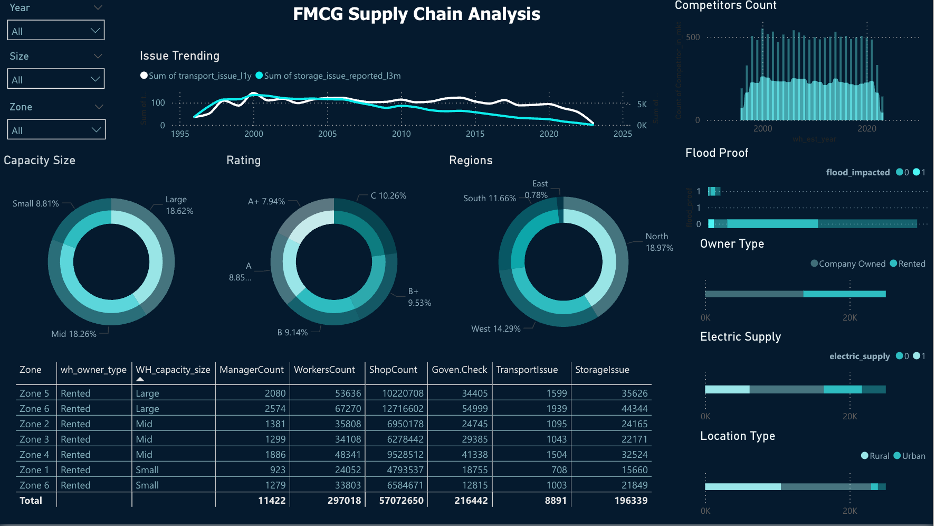

This screenshot's page, from the dashboard's own definition file:
{"tool":"powerbi","page":{"name":"Page 1","canvas":[1280,720],"ordinal":0},"visuals":[{"type":"barChart","title":"Owner Type","fields":{"Y":["Count(FMCG_data.Ware_house_ID)"],"Series":["FMCG_data.wh_owner_type"]},"box":[955.7,327.2,324.3,127.4],"z":0},{"type":"donutChart","title":"Rating ","fields":{"Category":["FMCG_data.approved_wh_govt_certificate"],"Y":["CountNonNull(FMCG_data.storage_issue_reported_l3m)"]},"box":[305.5,212.9,305.5,279.5],"z":1000},{"type":"donutChart","title":"Capacity Size","fields":{"Category":["FMCG_data.WH_capacity_size"],"Y":["CountNonNull(FMCG_data.Competitor_in_mkt)"]},"box":[0,212.9,305.5,279.5],"z":2000},{"type":"textbox","box":[396.9,0,365.2,43.2],"z":3000},{"type":"barChart","title":"Flood Proof","fields":{"Series":["FMCG_data.flood_impacted"],"Category":["FMCG_data.flood_proof"],"Y":["CountNonNull(FMCG_data.Ware_house_ID)"]},"box":[935.4,202.7,344.6,124.5],"z":4000},{"type":"barChart","title":"Electric Supply","fields":{"Y":["CountNonNull(FMCG_data.Ware_house_ID)"],"Series":["FMCG_data.electric_supply"]},"box":[955.7,454.7,324.3,136.1],"z":5000},{"type":"barChart","title":"Location Type","fields":{"Y":["CountNonNull(FMCG_data.Location_type)"],"Series":["FMCG_data.Location_type"]},"box":[955.7,590.8,324.3,128.9],"z":6000},{"type":"ribbonChart","title":"Competitors Count","fields":{"Category":["FMCG_data.wh_est_year"],"Y":["CountNonNull(FMCG_data.Competitor_in_mkt)"]},"box":[920.9,0,359.1,202.7],"z":7000},{"type":"tableEx","fields":{"Values":["FMCG_data.WH_regional_zone","FMCG_data.wh_owner_type","FMCG_data.WH_capacity_size","FMCG_data.WH_Manager_ID","FMCG_data.workers_num","FMCG_data.retail_shop_num","FMCG_data.govt_check_l3m","FMCG_data.transport_issue_l1y","FMCG_data.storage_issue_reported_l3m"]},"box":[15.9,492.3,919.5,227.3],"z":8000},{"type":"slicer","fields":{"Values":["FMCG_data.wh_est_year"]},"box":[0,0,153.5,66.6],"z":9000},{"type":"slicer","fields":{"Values":["FMCG_data.WH_capacity_size"]},"box":[0,66.6,153.5,69.5],"z":10000},{"type":"slicer","fields":{"Values":["FMCG_data.zone"]},"box":[0,136.1,154.9,66.6],"z":11000},{"type":"donutChart","title":"Regions","fields":{"Category":["FMCG_data.zone"],"Y":["CountNonNull(FMCG_data.Ware_house_ID)"]},"box":[611,212.9,324.3,279.5],"z":12000},{"type":"lineChart","title":"Issue Trending","fields":{"Y":["Sum(FMCG_data.transport_issue_l1y)"],"Y2":["Sum(FMCG_data.storage_issue_reported_l3m)"],"Category":["FMCG_data.wh_est_year"]},"box":[186.8,69.5,721.1,133.2],"z":13000}]}

Visuals, with their boxes in screenshot pixels (x1, y1, x2, y2), scaled from the page's 1280x720 canvas onto the 936x526 screenshot:
"Owner Type" barChart: Rect(699, 239, 935, 332)
"Rating " donutChart: Rect(223, 156, 447, 360)
"Capacity Size" donutChart: Rect(0, 156, 223, 360)
textbox: Rect(290, 0, 557, 32)
"Flood Proof" barChart: Rect(684, 148, 935, 239)
"Electric Supply" barChart: Rect(699, 332, 935, 432)
"Location Type" barChart: Rect(699, 432, 935, 525)
"Competitors Count" ribbonChart: Rect(673, 0, 935, 148)
tableEx - FMCG_data.WH_regional_zone x FMCG_data.wh_owner_type: Rect(12, 360, 684, 525)
slicer - FMCG_data.wh_est_year: Rect(0, 0, 112, 49)
slicer - FMCG_data.WH_capacity_size: Rect(0, 49, 112, 99)
slicer - FMCG_data.zone: Rect(0, 99, 113, 148)
"Regions" donutChart: Rect(447, 156, 684, 360)
"Issue Trending" lineChart: Rect(137, 51, 664, 148)
